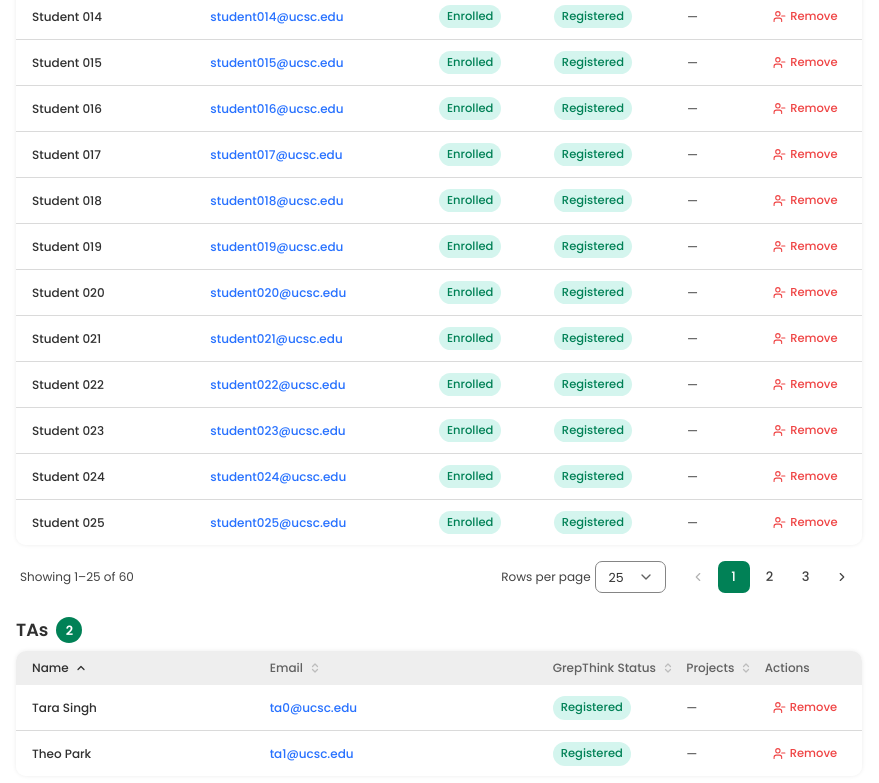
Test: Roster — paging the student list › moves between pages
(page scrolled)
Click the button named "Next page" at (842, 577), box [826,561,858,593]
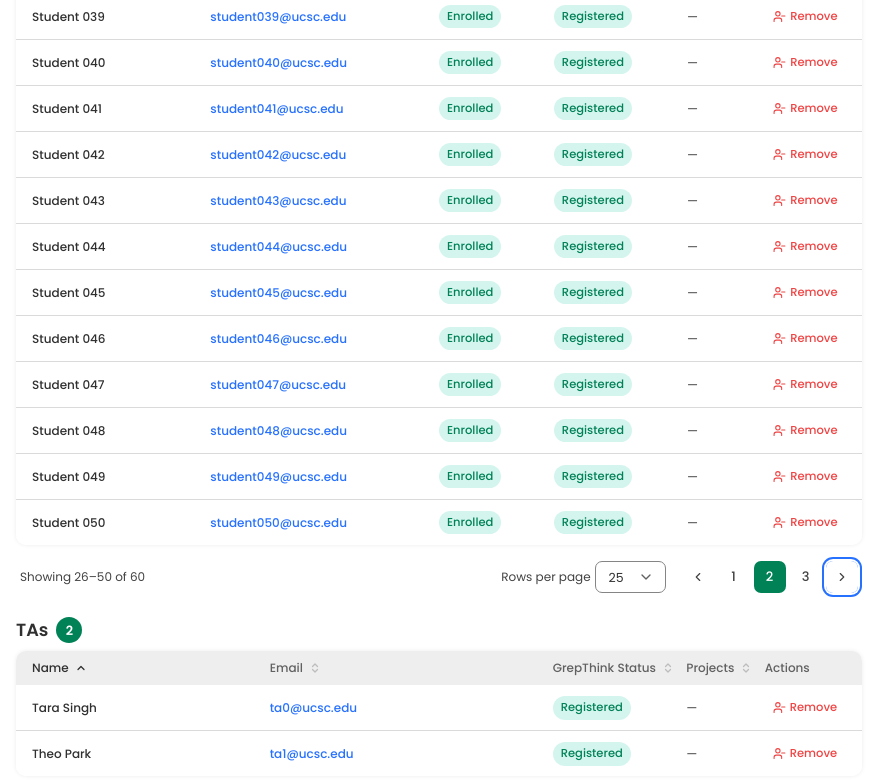
Now the text "Showing 26–50 of 60" is shown, box [20,568,145,586]
Click the button named "Page 3" at (806, 577), box [790,561,822,593]
(page scrolled)
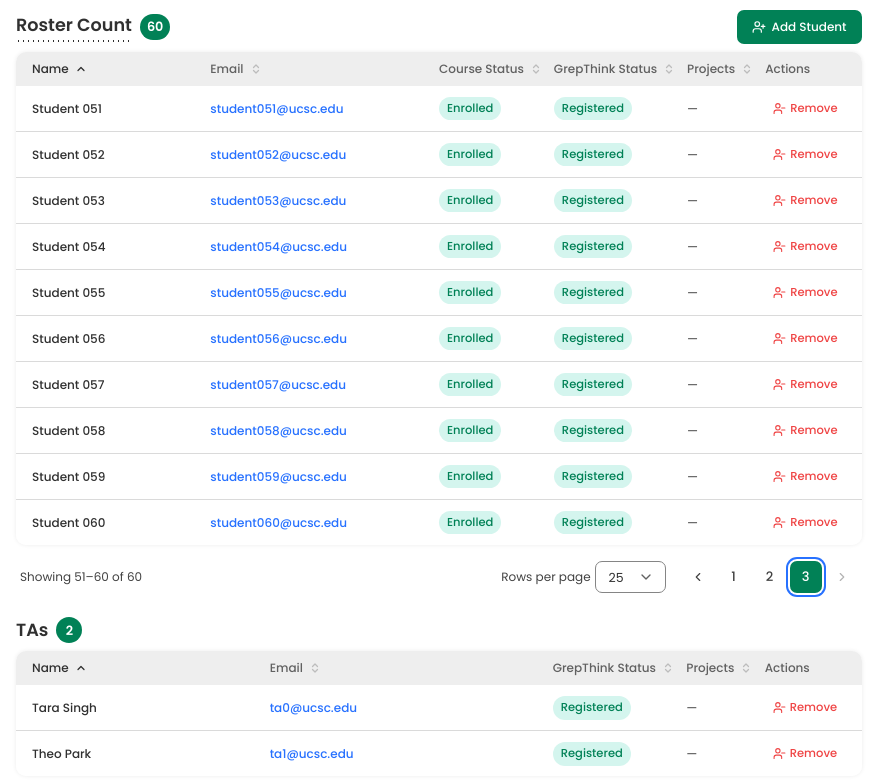
Expected: the button named "Next page" is disabled, [826,561,858,593]
Now the text "Showing 51–60 of 60" is shown, box [20,568,142,586]
